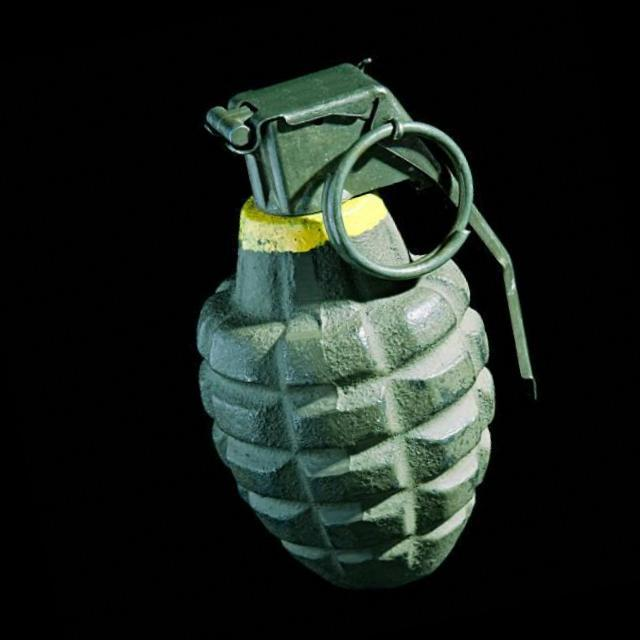grenade: (119, 20, 579, 614)
